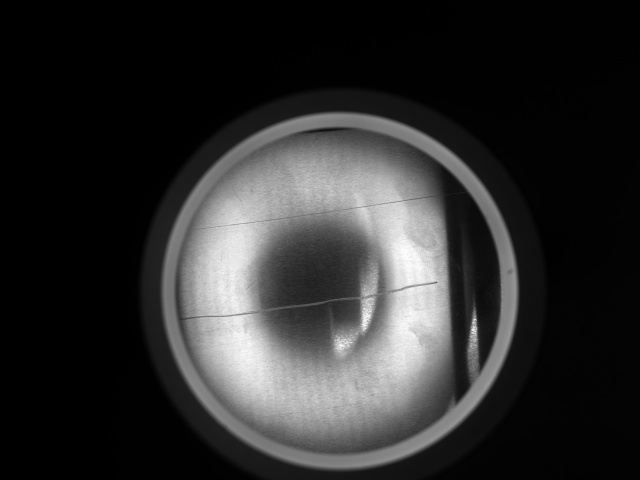ca_shang: (177, 278, 440, 320), (187, 192, 443, 231)
